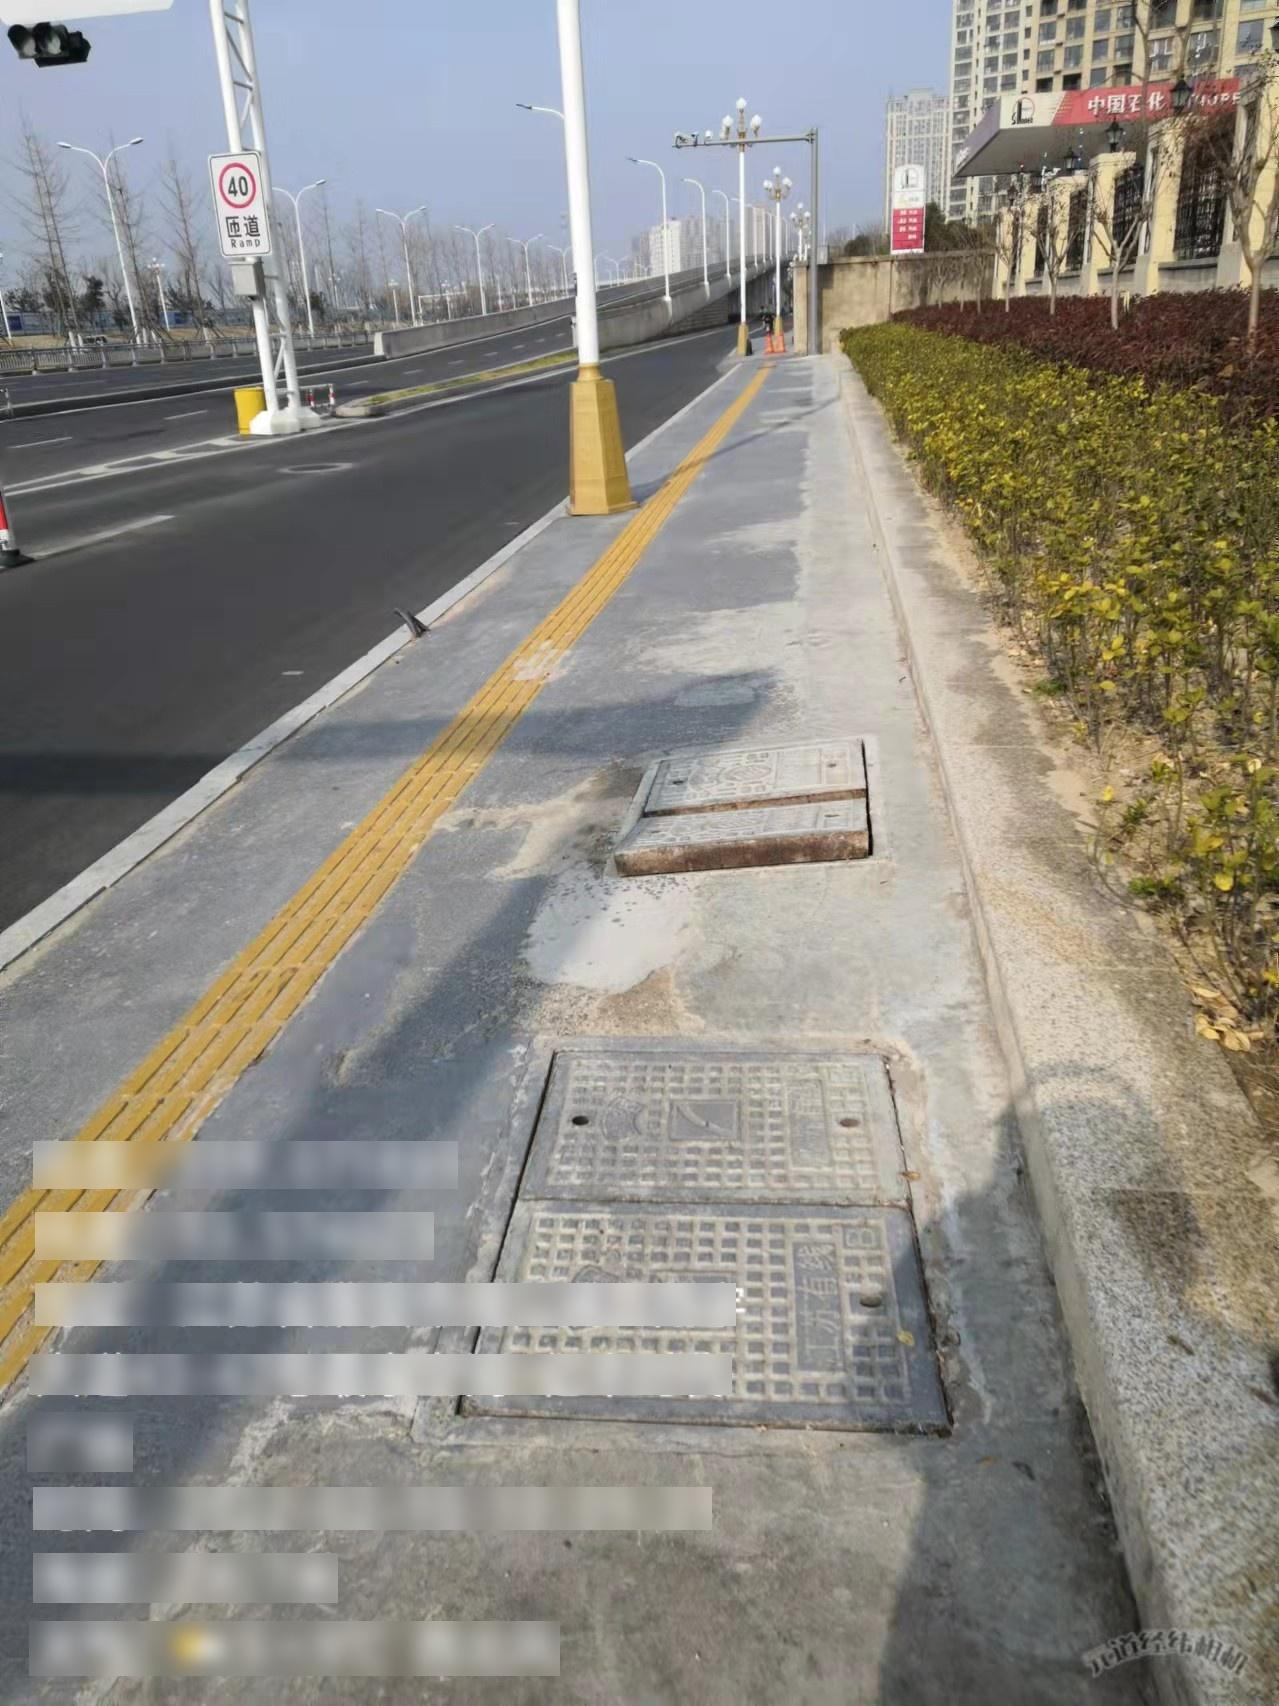wellcover: (454, 1018, 1000, 1463), (575, 731, 912, 912)
